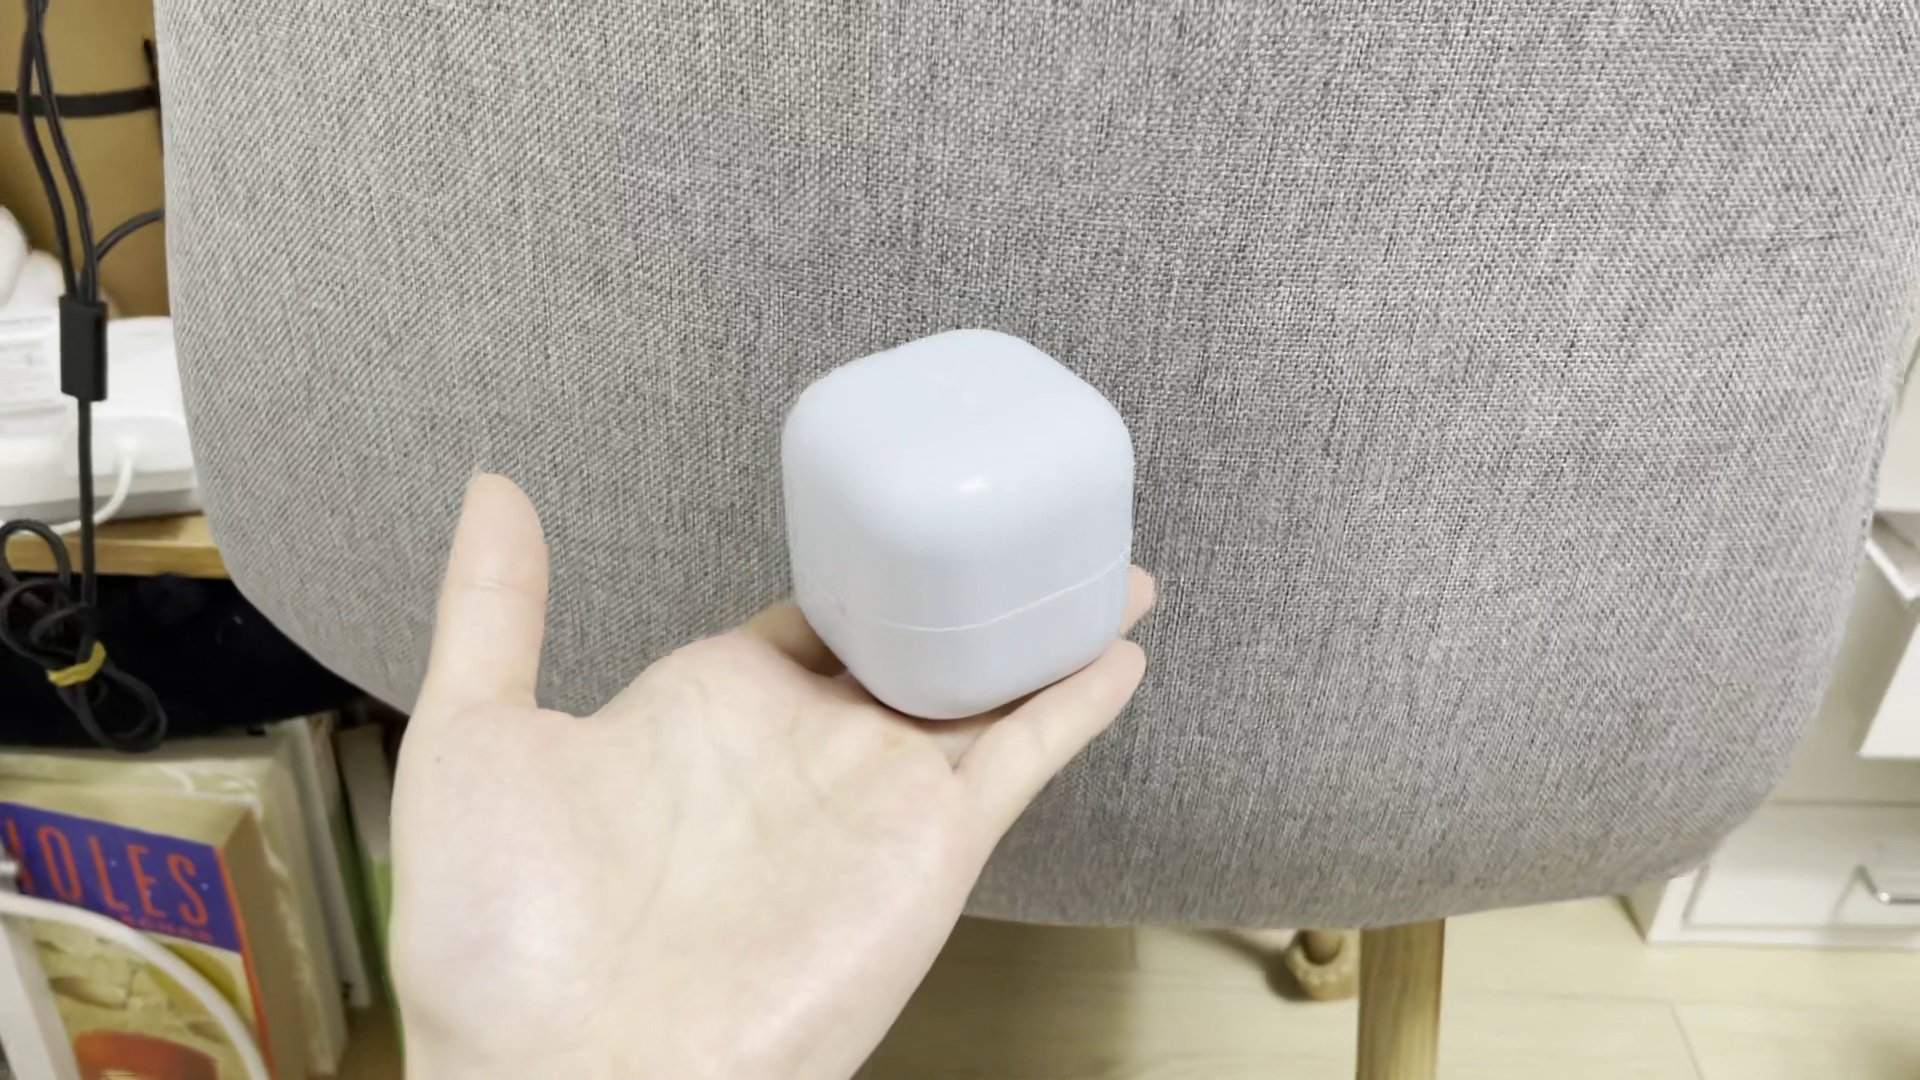cream: (786, 332, 1138, 705)
